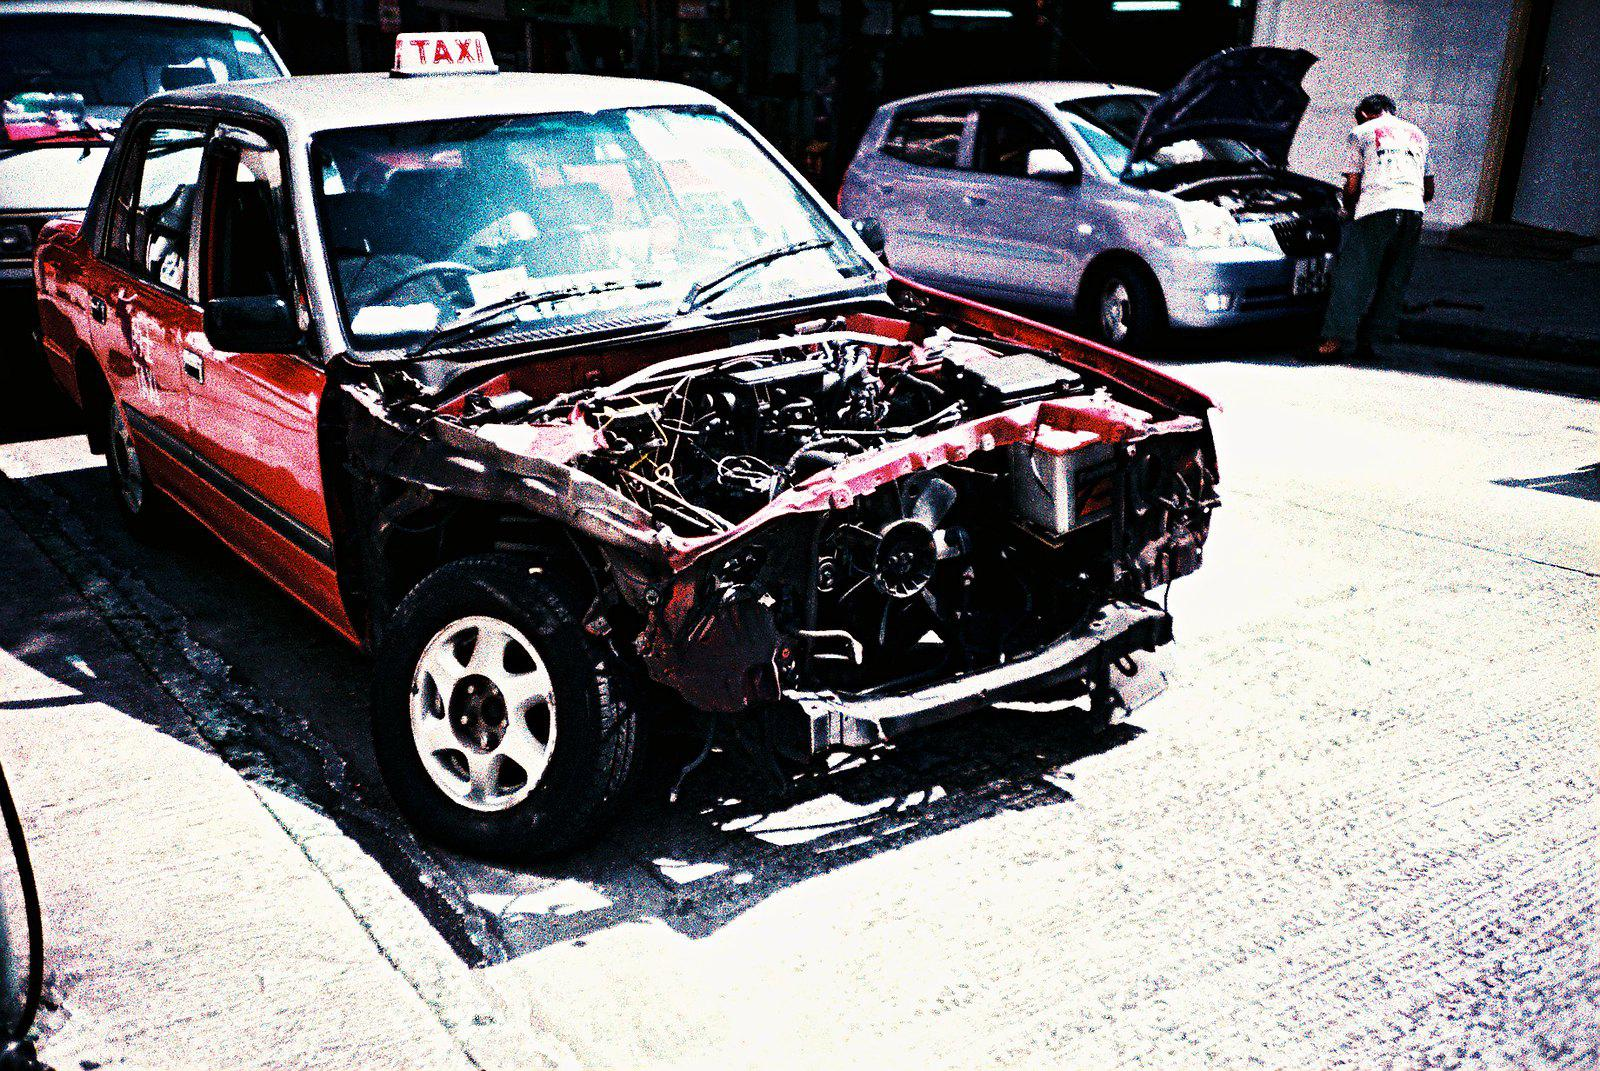bonnet-dent: (301, 261, 1101, 503)
front-bumper-dent: (695, 460, 1164, 770)
